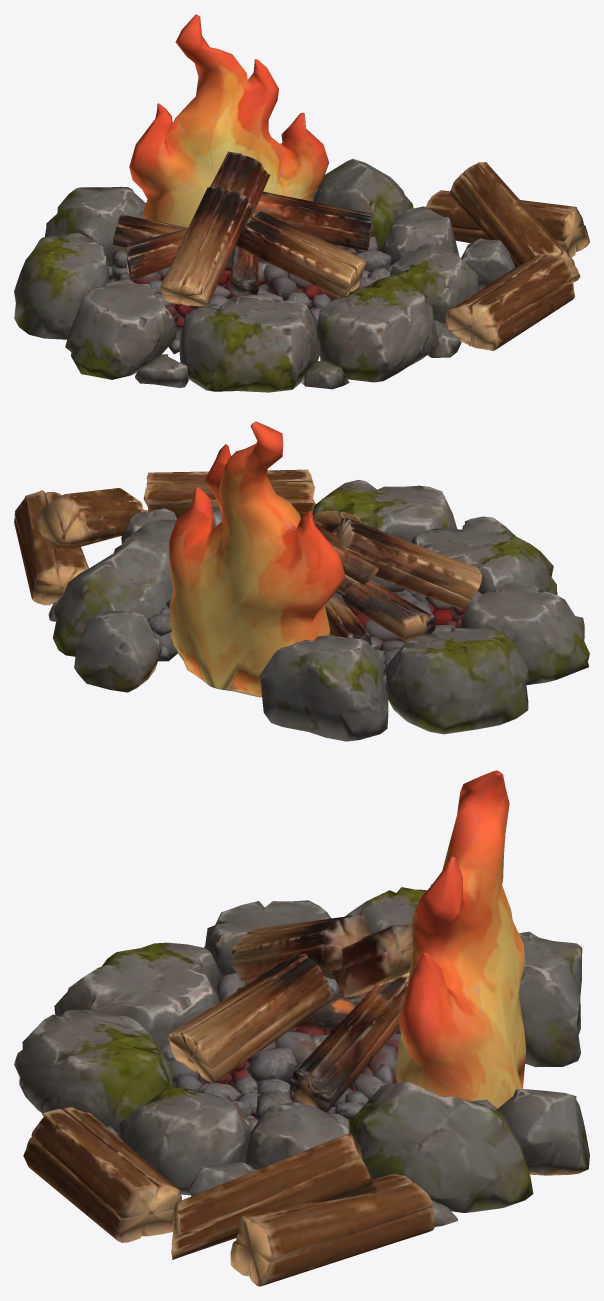
Rendered from shelter_t1_campfire.glb.
3 views of the same model, one above another, from view 1: azimuth 30°, elevation 25°; view 2: azimuth 150°, elevation 25°; view 3: azimuth 270°, elevation 25° (orthographic). The views are drawn at different scales.
Bounding box in the file's own units: 0.958 × 0.4311 × 0.6958.
1 material, 1 textured.
